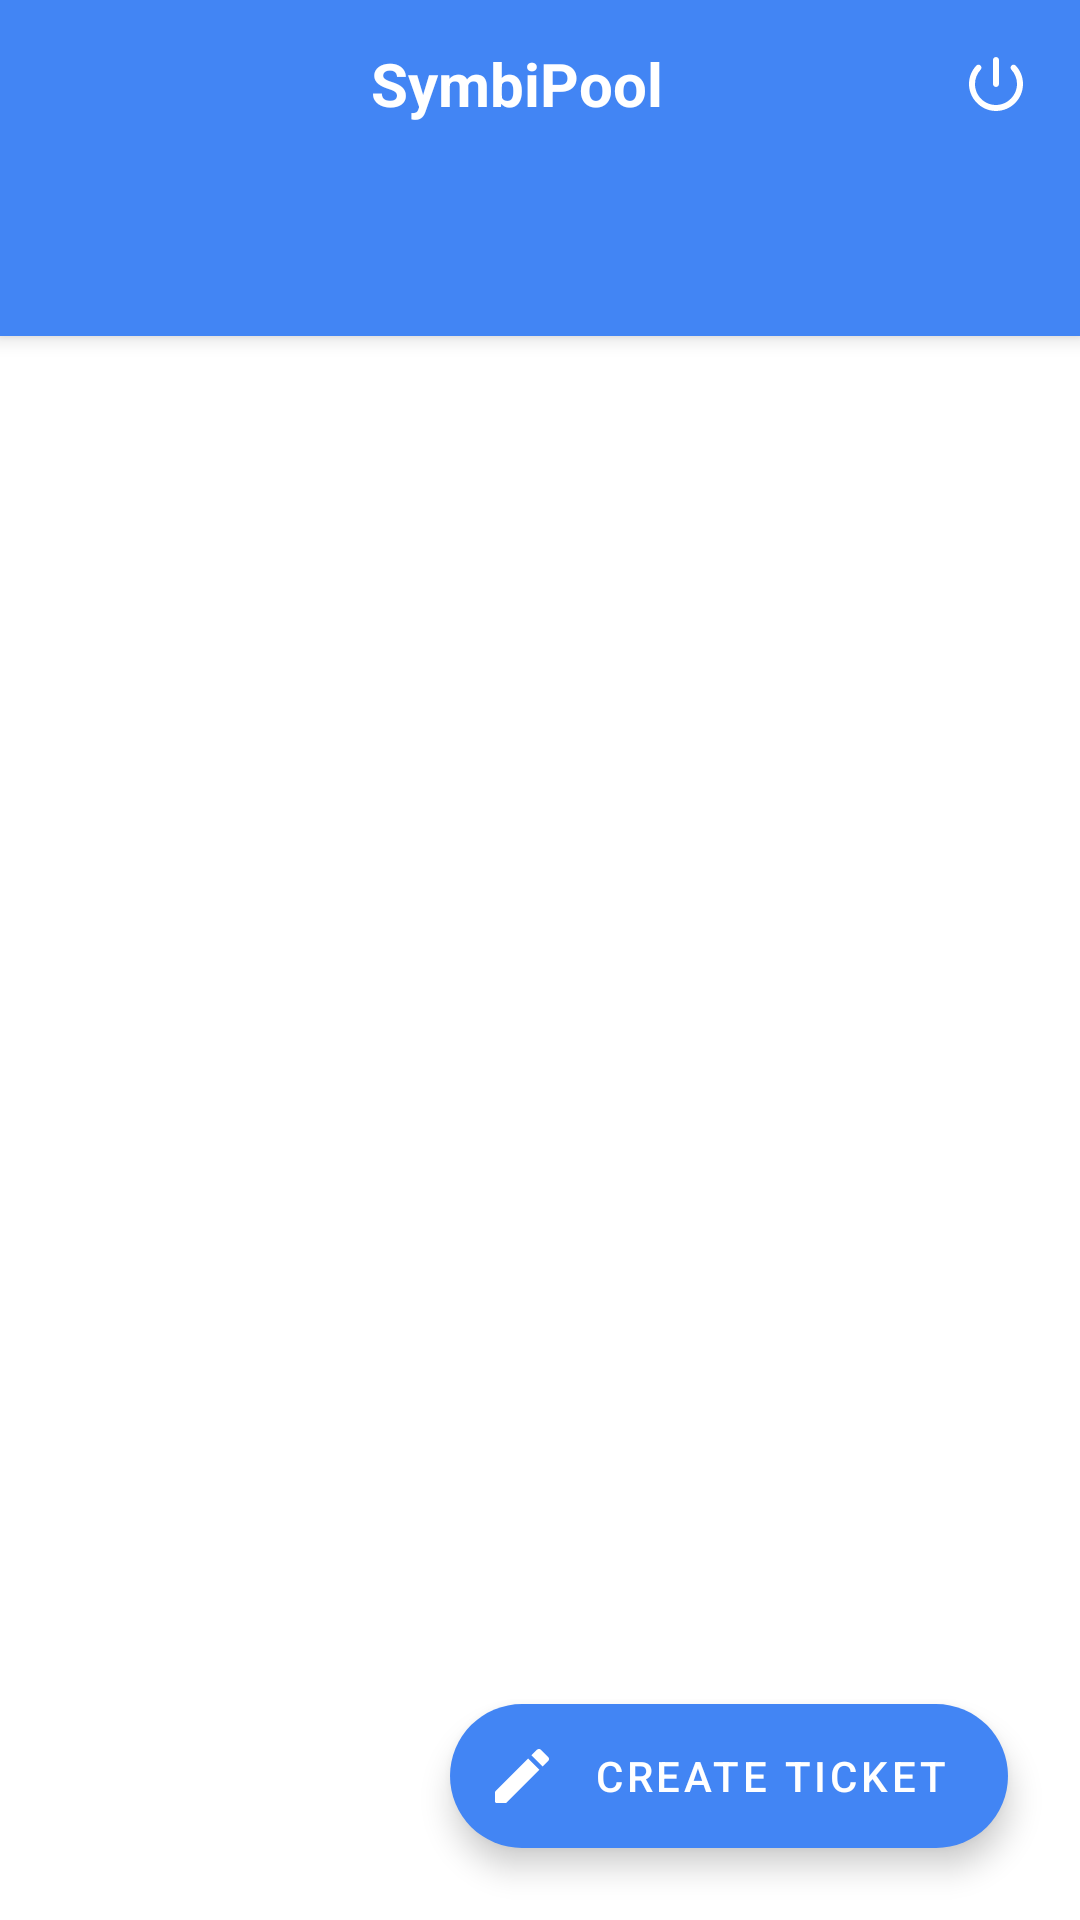

Icon click points for this 1080*1920 phone screenshot, format [x,y]:
power settings: [996,84]
